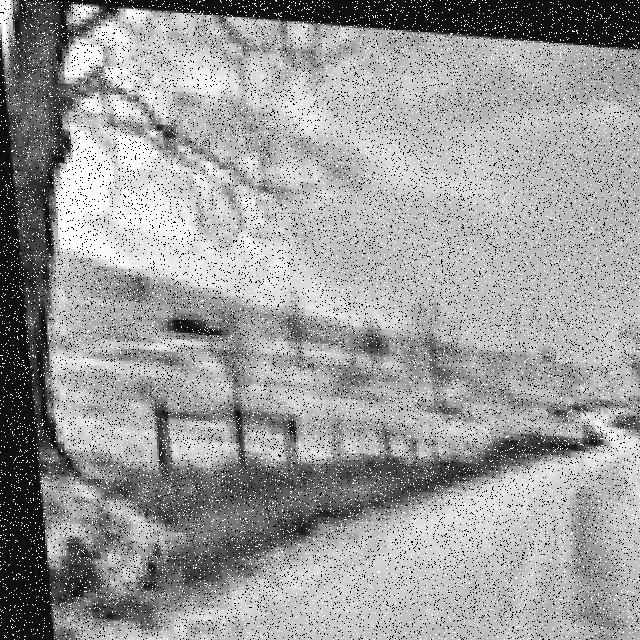ice-road: (135, 433, 640, 640)
